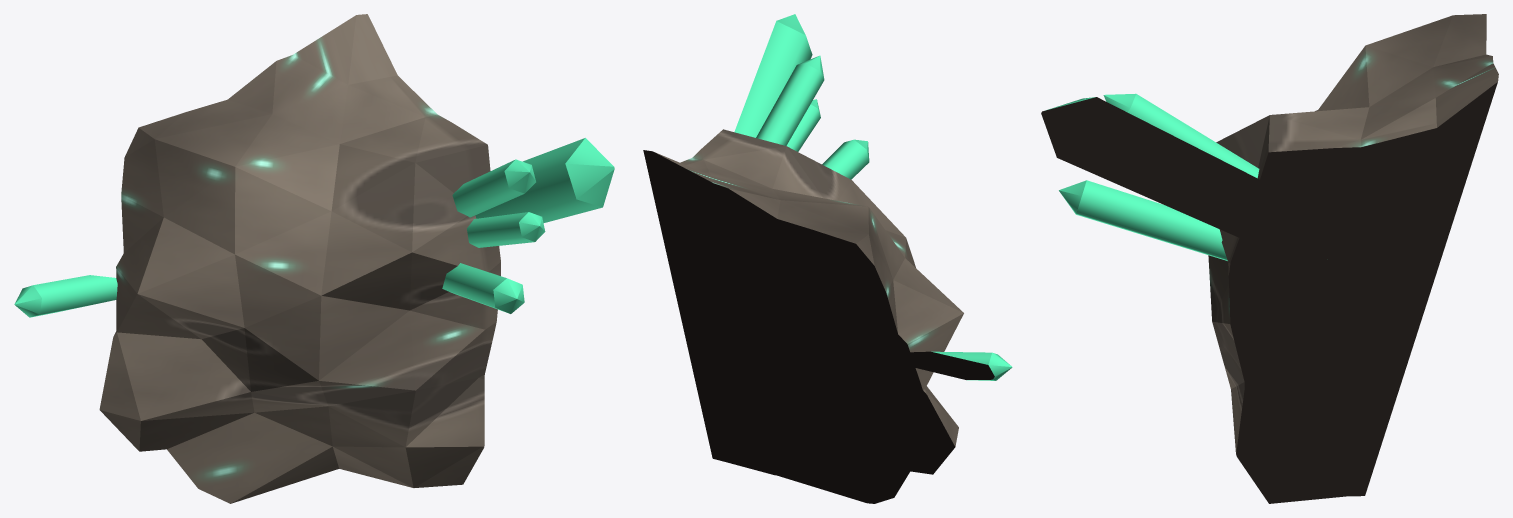
The model's file is cosmium_asteroid_debris4.obj.
3 views of the same model, side by side, from view 1: azimuth 30°, elevation 25°; view 2: azimuth 150°, elevation 25°; view 3: azimuth 270°, elevation 25° (orthographic). The views are drawn at different scales.
Parts seen in each view (by area): view 1: rock, crystal; view 2: rock, crystal; view 3: rock, crystal.
Part boxes in pixels (bbox=[...]): rock: bbox=[99, 14, 500, 503]; crystal: bbox=[14, 138, 614, 317]; rock: bbox=[643, 129, 963, 503]; crystal: bbox=[734, 14, 1012, 380]; rock: bbox=[1208, 14, 1498, 503]; crystal: bbox=[1041, 93, 1370, 280].
Size of the model in its own units: 67.94 by 61.05 by 58.41.
3 materials, 1 textured.
